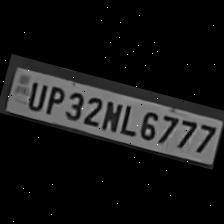2: (78, 91, 106, 128)
3: (60, 86, 87, 124)
6: (132, 106, 162, 143)
7: (188, 120, 216, 157), (170, 115, 197, 152), (154, 111, 179, 148)
L: (116, 100, 141, 139)
N: (98, 97, 124, 135)
P: (40, 82, 68, 119)
U: (21, 78, 48, 114)
